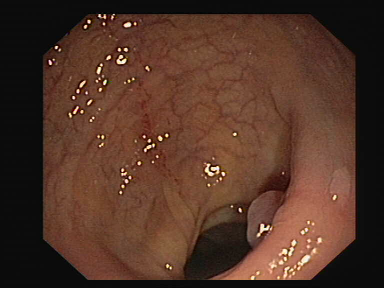polyp: (236, 182, 293, 243)
